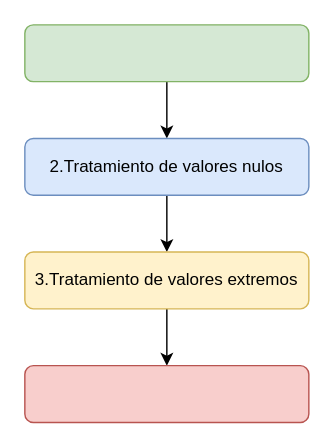
Image size: 334x447. Some labels were removed from this diagram. The shapes that lost their labels are listed below. From the top down, each one's box as (x1, y1, x2, y2) in pixels, then its label:
(23, 23, 309, 82): 1.Importación de datos en bruto
(23, 364, 309, 422): 4.Agrupamiento y visualización de datos
